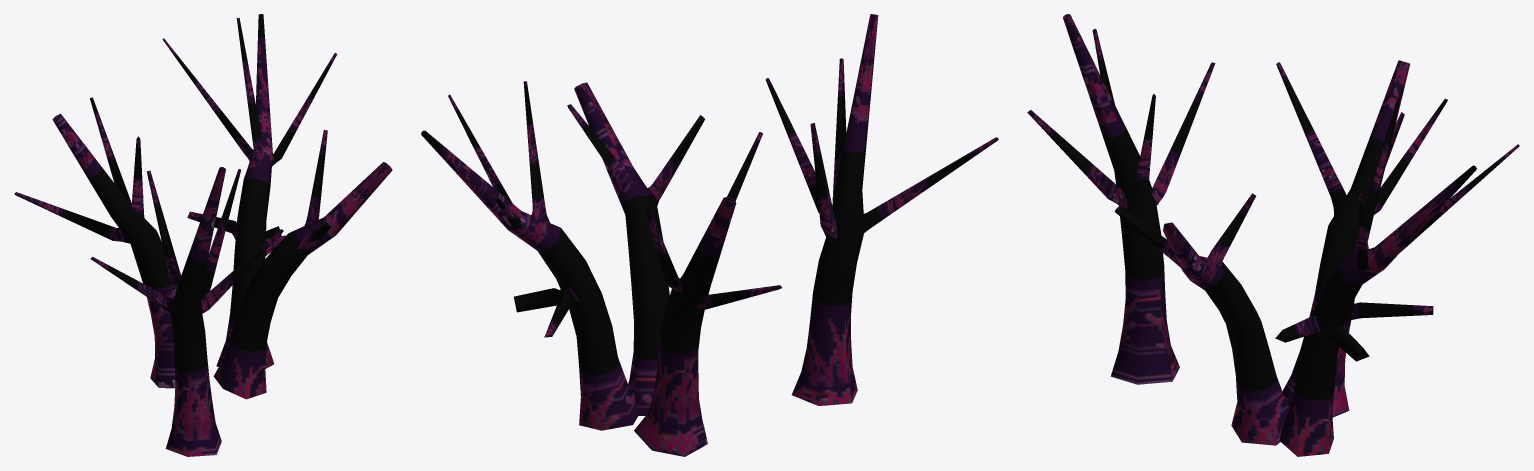
3 views of the same model, side by side, from view 1: azimuth 30°, elevation 25°; view 2: azimuth 150°, elevation 25°; view 3: azimuth 270°, elevation 25° (orthographic). The views are drawn at different scales.
Parts seen in each view (by area): view 1: SM_GF_LongSeededGrass_02_LOD0; view 2: SM_GF_LongSeededGrass_02_LOD0; view 3: SM_GF_LongSeededGrass_02_LOD0.
Boxes of the visible parts, bbox=[...] form: SM_GF_LongSeededGrass_02_LOD0: bbox=[14, 14, 392, 456]; SM_GF_LongSeededGrass_02_LOD0: bbox=[421, 14, 998, 456]; SM_GF_LongSeededGrass_02_LOD0: bbox=[1027, 14, 1519, 456].
Bounding box in the file's own units: 0.8111 × 0.6794 × 0.8243.
